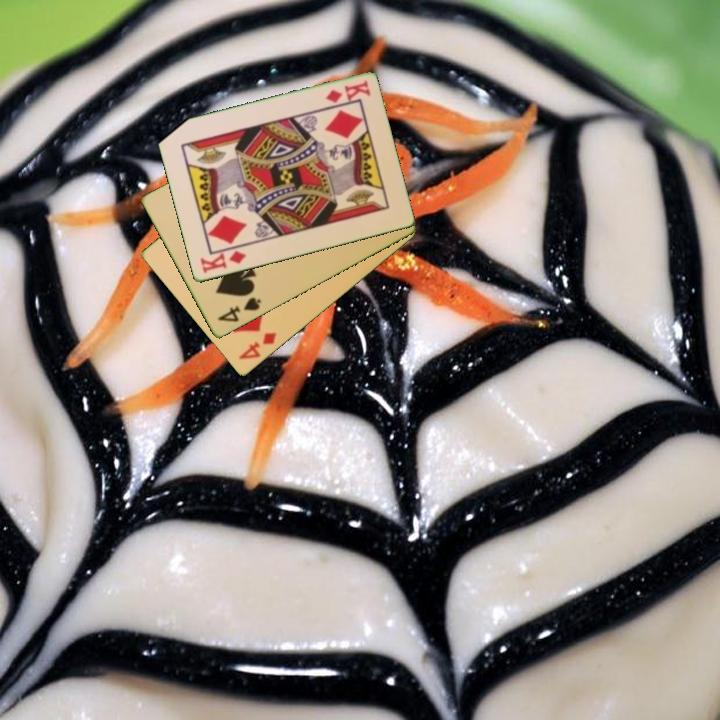4d: (235, 329, 279, 363)
4s: (214, 294, 264, 325)
Kd: (196, 247, 249, 277), (322, 77, 373, 106)
